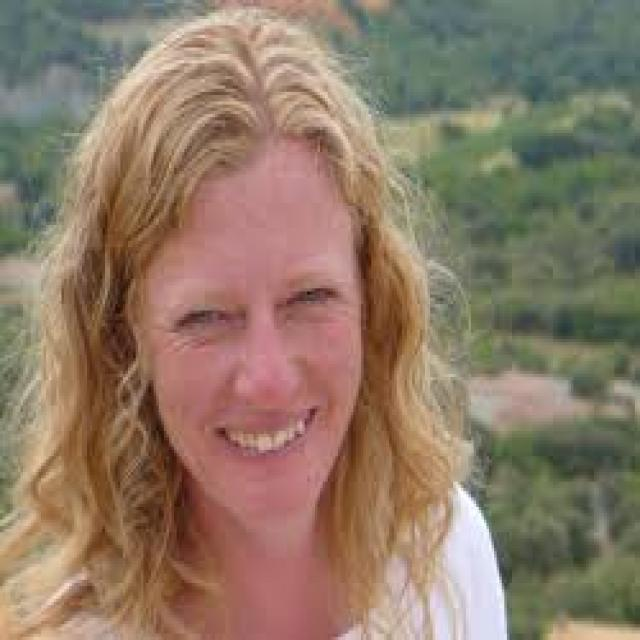stroke_face: (112, 116, 368, 526)
